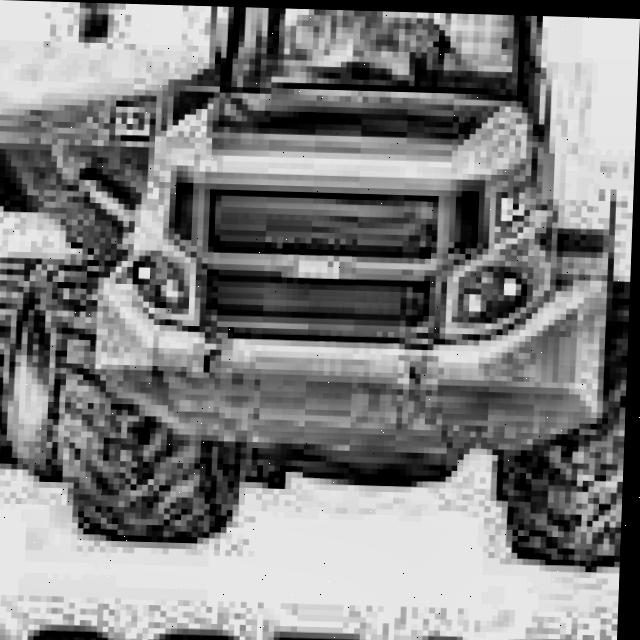dump_truck: (0, 0, 640, 581)
